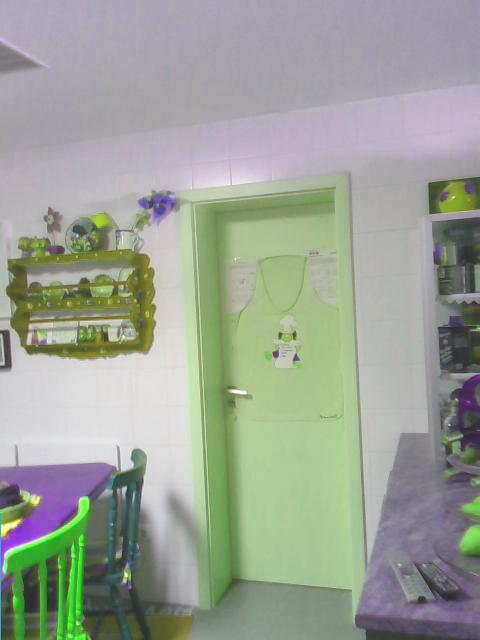closed_door: (167, 173, 365, 618)
